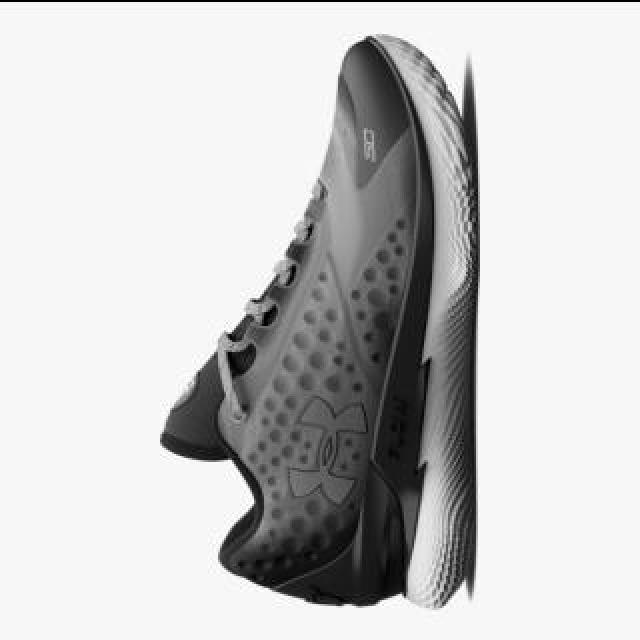shoe: (160, 32, 476, 606)
